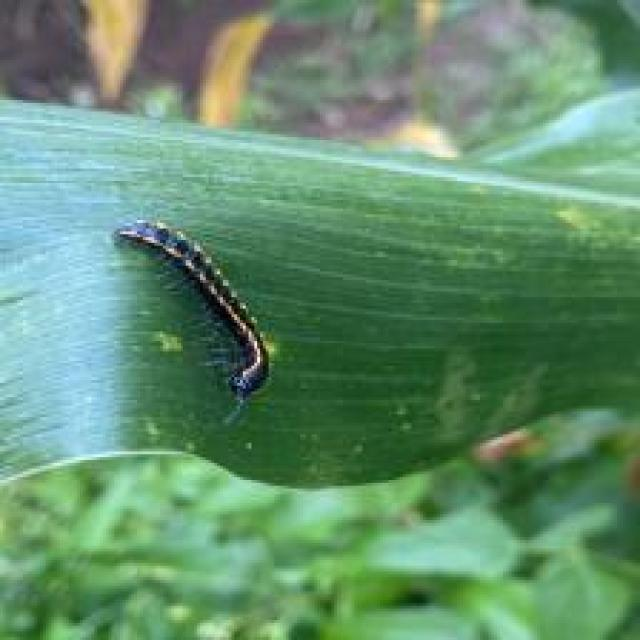Plaga: (106, 208, 303, 417)
